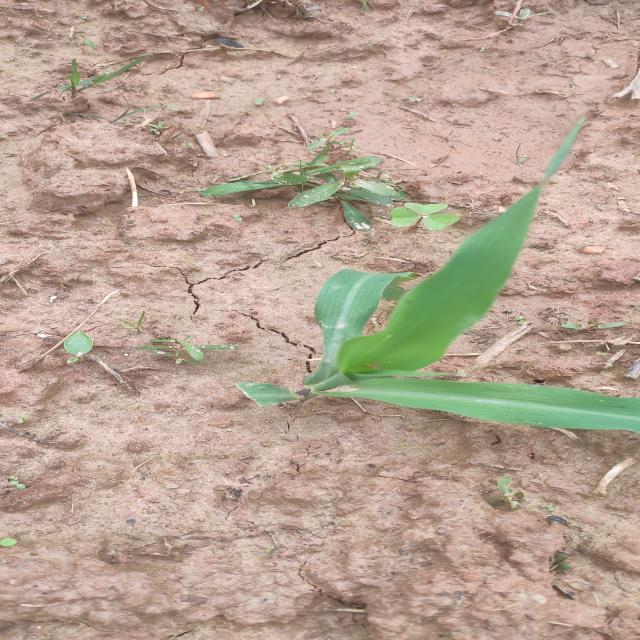maize: (203, 228, 640, 441)
weed: (196, 138, 479, 234), (47, 312, 236, 367), (34, 48, 186, 112), (474, 466, 557, 507)
